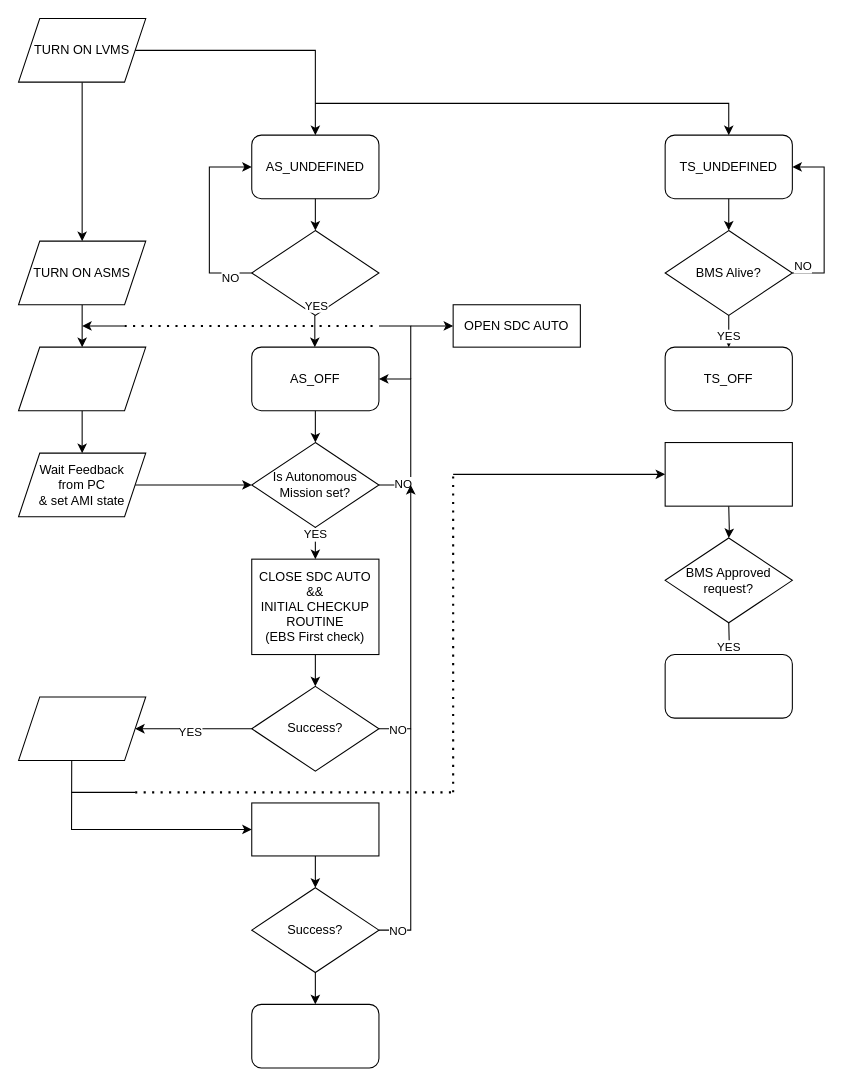
Some shapes in this 851 by 1087 pixel diagram are drawn without their labels. Each missing label, with the centre of its shape:
AS_READY: pixel 315 1035
CONTINUE INITIAL CHECKUP ROUTINE: pixel 315 829
Is ASMS ON?: pixel 315 272
Press TS ON external button: pixel 81 728
Select mission on Steering Wheel: pixel 81 378
Send KEY_AUTO request to BMS: pixel 728 473
TS_KEY_AUTO: pixel 728 685
